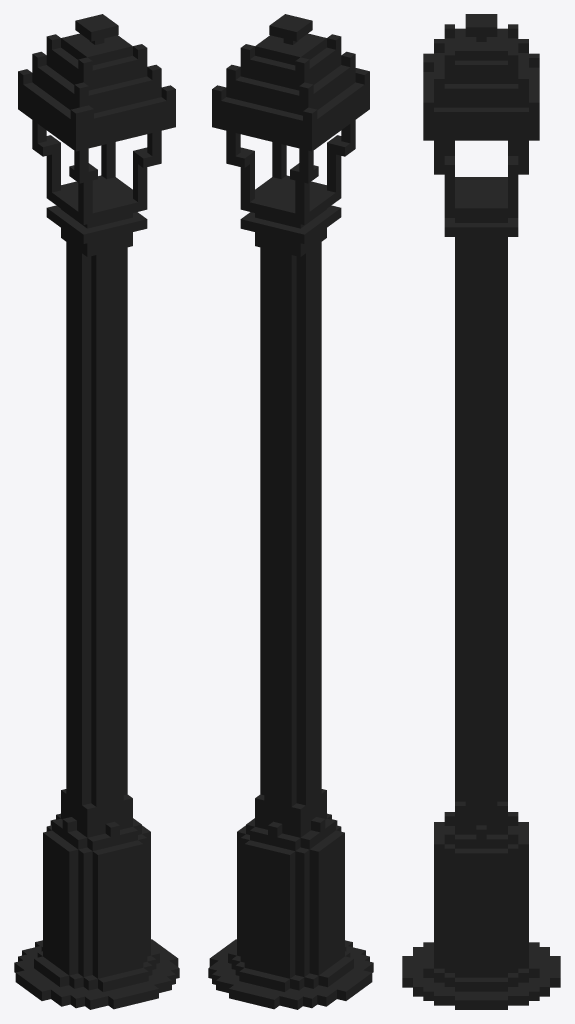
File: Matrix.fbx
The picture shows the model from 3 angles, left to right: view 1: azimuth 30°, elevation 25°; view 2: azimuth 150°, elevation 25°; view 3: azimuth 270°, elevation 25°; orthographic projection.
Parts seen in each view (by area): view 1: Matrix; view 2: Matrix; view 3: Matrix.
Boxes of the visible parts, x1=… form: Matrix: x1=14, y1=14, x2=179, y2=1009; Matrix: x1=208, y1=14, x2=373, y2=1009; Matrix: x1=402, y1=14, x2=560, y2=1009.
Bounding box in the file's own units: 15 × 100 × 15.
Materials: 1 (1 with a texture image).
